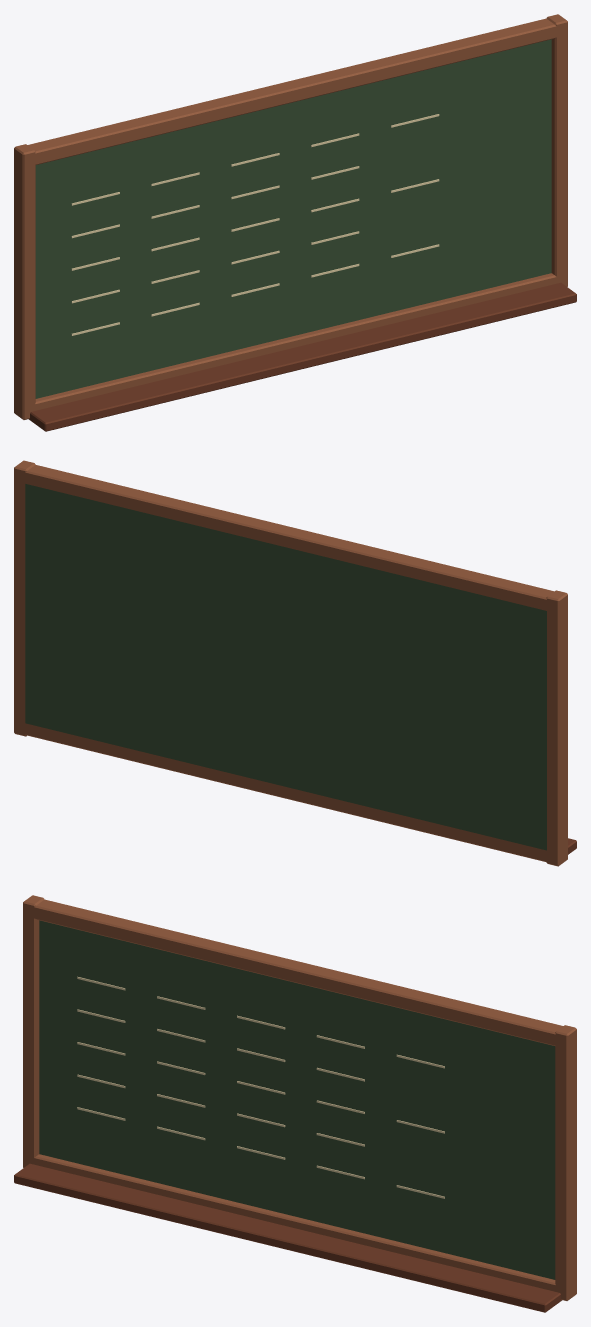
Rendered from chalkboard_02.glb.
3 views of the same model, one above another, from view 1: azimuth 30°, elevation 25°; view 2: azimuth 150°, elevation 25°; view 3: azimuth 330°, elevation 25° (orthographic).
Parts seen in each view (by area): view 1: Slate, Tray, Rail_001, Rail, Stile, Stile_001; view 2: Slate, Rail_001, Rail, Stile, Stile_001; view 3: Slate, Tray, Rail_001, Rail, Stile_001, Stile.
Boxes of the visible parts, x1=… form: Slate: x1=35, y1=39, x2=551, y2=398; Tray: x1=28, y1=282, x2=576, y2=431; Rail_001: x1=14, y1=18, x2=567, y2=167; Rail: x1=19, y1=273, x2=567, y2=417; Stile: x1=14, y1=144, x2=35, y2=419; Stile_001: x1=546, y1=14, x2=567, y2=286; Slate: x1=25, y1=484, x2=546, y2=850; Rail_001: x1=14, y1=465, x2=567, y2=613; Rail: x1=14, y1=721, x2=567, y2=863; Stile: x1=546, y1=590, x2=567, y2=866; Stile_001: x1=14, y1=460, x2=35, y2=736; Slate: x1=39, y1=920, x2=555, y2=1279; Tray: x1=14, y1=1163, x2=562, y2=1312; Rail_001: x1=23, y1=899, x2=576, y2=1048; Rail: x1=23, y1=1154, x2=576, y2=1298; Stile_001: x1=555, y1=1025, x2=576, y2=1300; Stile: x1=23, y1=895, x2=44, y2=1167.
Bounding box in the file's own units: 4.1 × 1.93 × 0.33.
